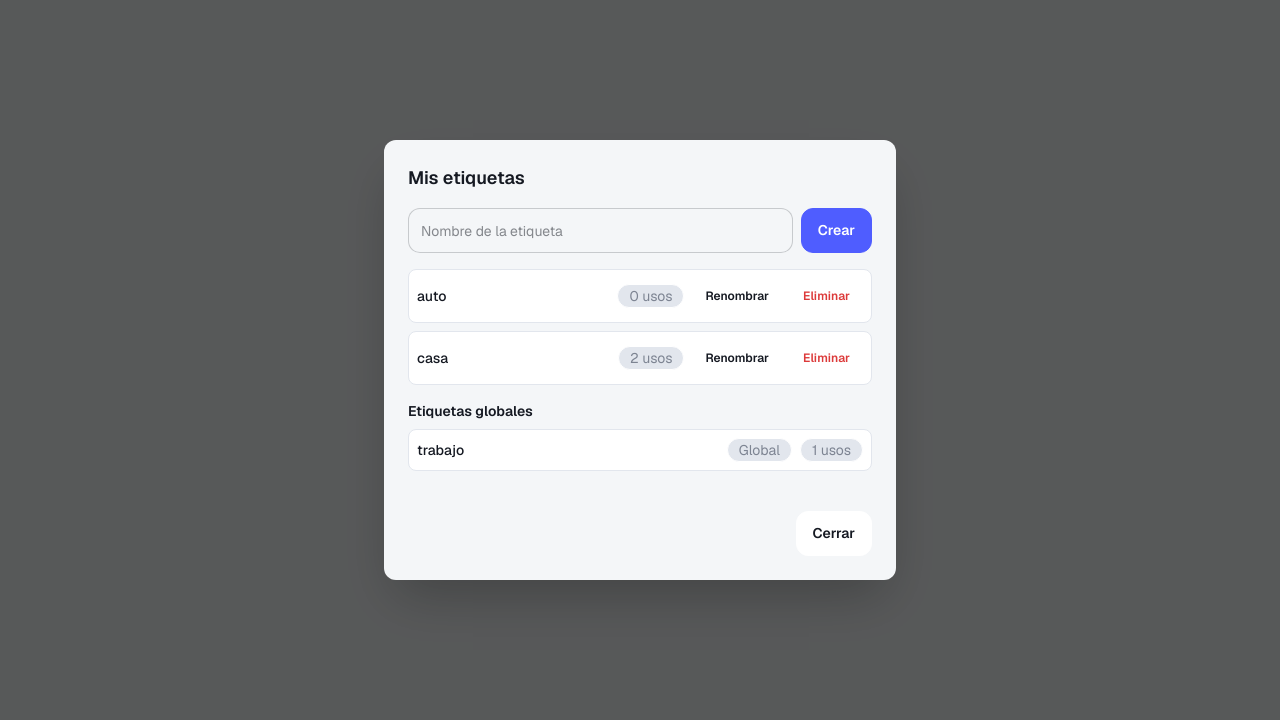
PrivateTagsDialog › rechaza renombrar a una privada existente (RF-24)
Expected: the text "casa" is shown, x1=417 y1=349 x2=448 y2=367
Click the button with aria-label "Renombrar casa" at point(737, 358), box x1=692 y1=340 x2=782 y2=376
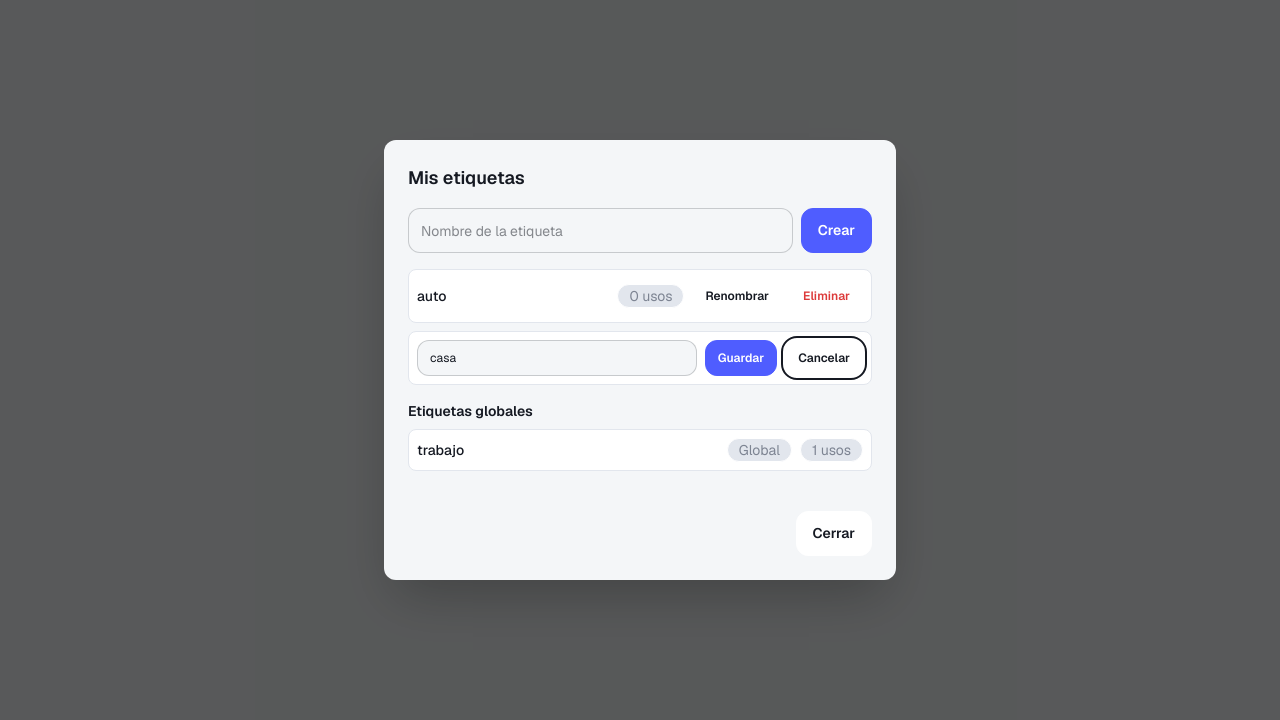
Replace the text in the field named "Renombrar etiqueta casa" with "auto" at point(557, 358), box x1=417 y1=340 x2=697 y2=376
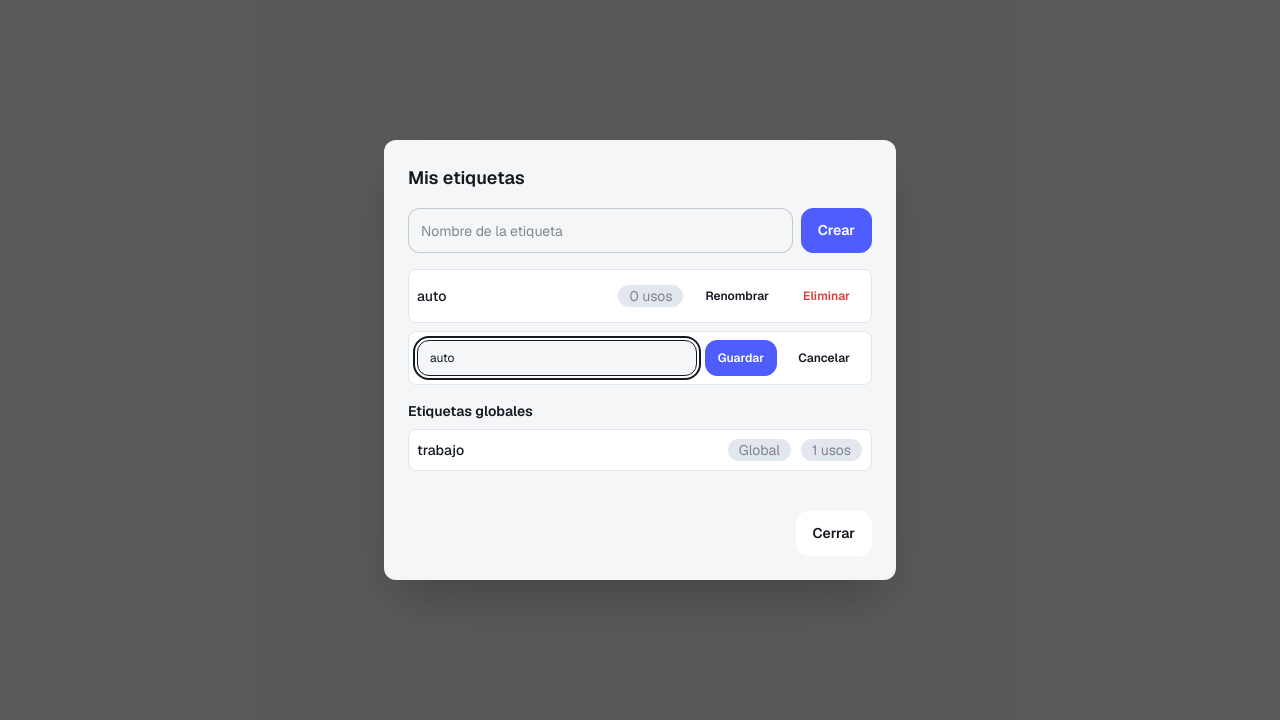
Click the button with aria-label "Guardar casa" at point(741, 358), box x1=705 y1=340 x2=777 y2=376
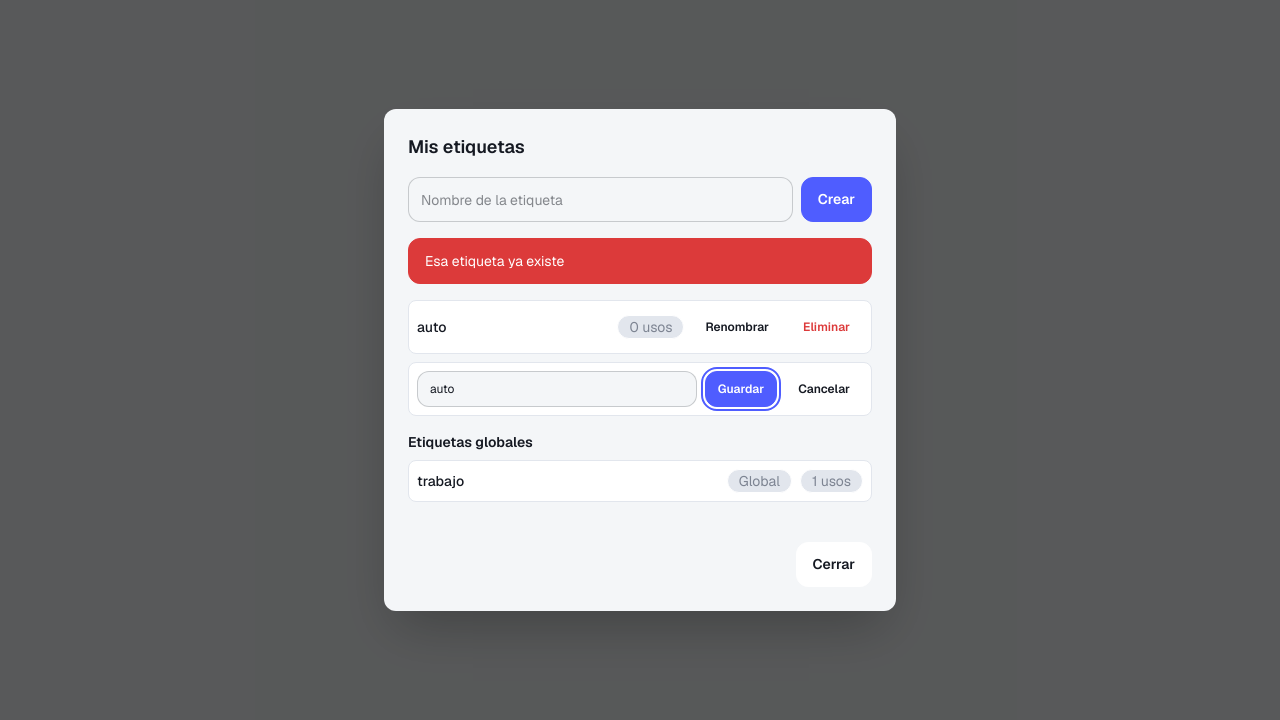
Now the message reads "Esa etiqueta ya existe", box x1=425 y1=252 x2=564 y2=270
